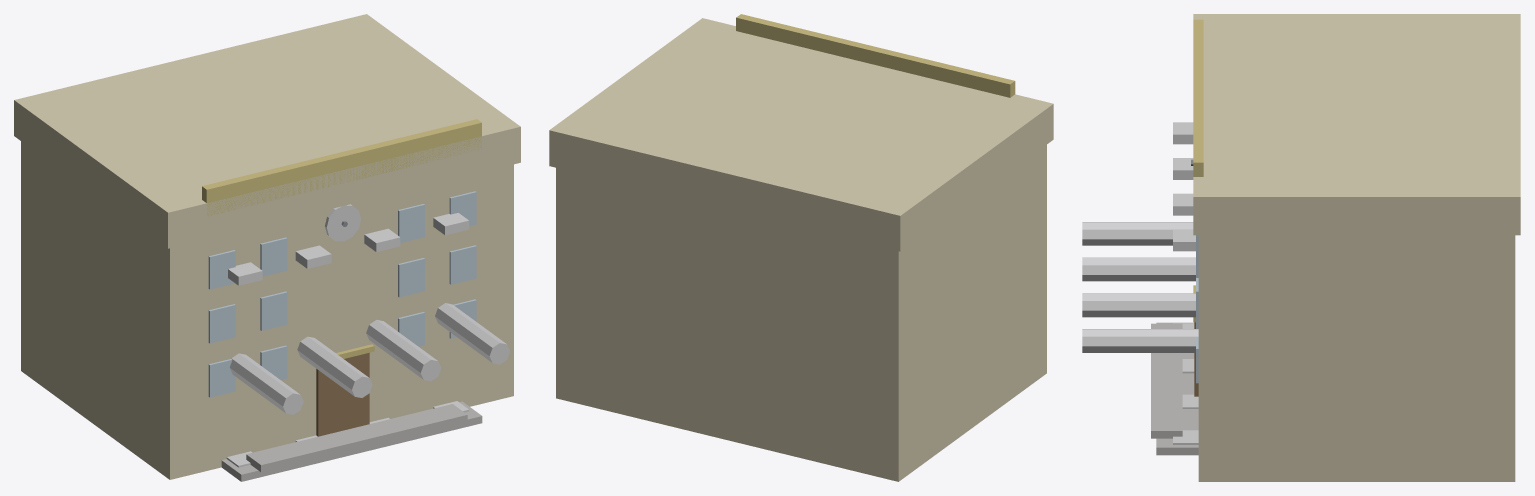
File: building-bank.glb
3 views of the same model, side by side, from view 1: azimuth 30°, elevation 25°; view 2: azimuth 150°, elevation 25°; view 3: azimuth 270°, elevation 25° (orthographic). The views are drawn at different scales.
Parts seen in each view (by area): view 1: building-bank_part_0, building-bank_part_1, building-bank_part_2, building-bank_part_16, building-bank_part_17, building-bank_part_9, building-bank_part_12, building-bank_part_6, building-bank_part_3, building-bank_part_15, building-bank_part_19, building-bank_part_25 (+14 smaller); view 2: building-bank_part_0, building-bank_part_1, building-bank_part_2; view 3: building-bank_part_0, building-bank_part_1, building-bank_part_16, building-bank_part_6, building-bank_part_9, building-bank_part_12, building-bank_part_3, building-bank_part_2, building-bank_part_15, building-bank_part_13, building-bank_part_4, building-bank_part_10.
Boxes of the visible parts, <box> form: building-bank_part_0: <box>21,141,513,479</box>; building-bank_part_1: <box>14,14,520,248</box>; building-bank_part_2: <box>202,119,481,216</box>; building-bank_part_16: <box>246,404,467,472</box>; building-bank_part_17: <box>316,352,369,436</box>; building-bank_part_9: <box>366,320,441,381</box>; building-bank_part_12: <box>435,303,509,364</box>; building-bank_part_6: <box>297,336,372,397</box>; building-bank_part_3: <box>229,353,303,414</box>; building-bank_part_15: <box>221,401,482,481</box>; building-bank_part_19: <box>325,204,360,241</box>; building-bank_part_25: <box>260,291,287,330</box>; building-bank_part_0: <box>556,145,1046,481</box>; building-bank_part_1: <box>549,18,1053,251</box>; building-bank_part_2: <box>736,14,1015,97</box>; building-bank_part_0: <box>1198,235,1515,481</box>; building-bank_part_1: <box>1193,14,1520,235</box>; building-bank_part_16: <box>1151,323,1182,438</box>; building-bank_part_6: <box>1082,257,1195,281</box>; building-bank_part_9: <box>1082,293,1195,317</box>; building-bank_part_12: <box>1082,329,1198,352</box>; building-bank_part_3: <box>1082,222,1193,245</box>; building-bank_part_2: <box>1193,19,1203,176</box>; building-bank_part_15: <box>1156,322,1198,455</box>; building-bank_part_13: <box>1173,229,1195,251</box>; building-bank_part_4: <box>1173,122,1193,144</box>; building-bank_part_10: <box>1173,193,1193,215</box>.
Bounding box in the file's own units: 20.5 × 15.75 × 20.75.
